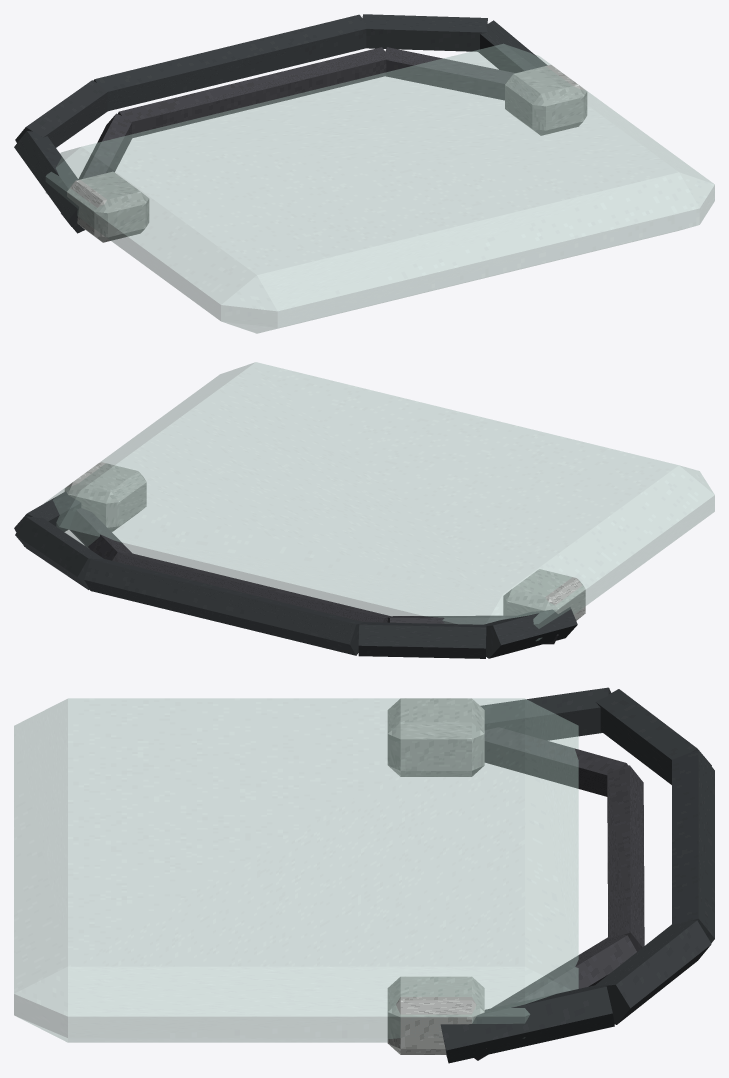
The model's file is face_shield_plastic.glb.
The picture shows the model from 3 angles, top to bottom: view 1: azimuth 30°, elevation 25°; view 2: azimuth 150°, elevation 25°; view 3: azimuth 270°, elevation 25°; orthographic projection. The views are drawn at different scales.
Parts seen in each view (by area): view 1: block_larger clear face shield, block_rigid adjustable mounting bracket 2, block_side clip (×2), block_mounting rim 1, block_rigid adjustable mounting bracket 3, block_mounting rim 2, block_rigid adjustable mounting bracket 0, block_rigid adjustable mounting bracket 1, block_rigid adjustable mounting bracket 4, block_mounting rim 0; view 2: block_larger clear face shield, block_rigid adjustable mounting bracket 2, block_side clip (×2), block_rigid adjustable mounting bracket 1, block_mounting rim 1, block_rigid adjustable mounting bracket 0, block_rigid adjustable mounting bracket 3, block_mounting rim 2, block_rigid adjustable mounting bracket 4, block_mounting rim 0; view 3: block_larger clear face shield, block_side clip (×2), block_rigid adjustable mounting bracket 4, block_rigid adjustable mounting bracket 2, block_mounting rim 1, block_rigid adjustable mounting bracket 3, block_mounting rim 0, block_rigid adjustable mounting bracket 0, block_rigid adjustable mounting bracket 1, block_mounting rim 2.
Boxes of the visible parts, x1=… form: block_larger clear face shield: x1=45, y1=43, x2=714, y2=333; block_rigid adjustable mounting bracket 2: x1=93, y1=14, x2=366, y2=111; block_side clip (×2): x1=67, y1=65, x2=587, y2=242; block_mounting rim 1: x1=118, y1=47, x2=389, y2=138; block_rigid adjustable mounting bracket 3: x1=362, y1=14, x2=487, y2=51; block_mounting rim 2: x1=385, y1=47, x2=514, y2=100; block_rigid adjustable mounting bracket 0: x1=14, y1=131, x2=84, y2=233; block_rigid adjustable mounting bracket 1: x1=15, y1=80, x2=107, y2=147; block_rigid adjustable mounting bracket 4: x1=478, y1=20, x2=547, y2=72; block_mounting rim 0: x1=61, y1=113, x2=131, y2=226; block_larger clear face shield: x1=44, y1=362, x2=714, y2=641; block_rigid adjustable mounting bracket 2: x1=84, y1=558, x2=363, y2=655; block_side clip (×2): x1=64, y1=462, x2=585, y2=620; block_rigid adjustable mounting bracket 1: x1=358, y1=622, x2=486, y2=658; block_mounting rim 1: x1=118, y1=553, x2=391, y2=622; block_rigid adjustable mounting bracket 0: x1=484, y1=607, x2=577, y2=658; block_rigid adjustable mounting bracket 3: x1=15, y1=516, x2=103, y2=589; block_mounting rim 2: x1=69, y1=508, x2=131, y2=561; block_rigid adjustable mounting bracket 4: x1=14, y1=491, x2=81, y2=546; block_mounting rim 0: x1=387, y1=615, x2=558, y2=644; block_larger clear face shield: x1=14, y1=698, x2=578, y2=1042; block_side clip (×2): x1=387, y1=698, x2=484, y2=1054; block_rigid adjustable mounting bracket 4: x1=440, y1=985, x2=614, y2=1063; block_rigid adjustable mounting bracket 2: x1=672, y1=750, x2=714, y2=942; block_mounting rim 1: x1=607, y1=765, x2=644, y2=951; block_rigid adjustable mounting bracket 3: x1=593, y1=920, x2=711, y2=1024; block_mounting rim 0: x1=484, y1=727, x2=628, y2=796; block_rigid adjustable mounting bracket 0: x1=480, y1=687, x2=611, y2=740; block_rigid adjustable mounting bracket 1: x1=596, y1=689, x2=711, y2=784; block_mounting rim 2: x1=474, y1=935, x2=636, y2=1060.
Size of the model in its own units: 0.1581 by 0.0173 by 0.1439.
2 materials, 2 textured.
